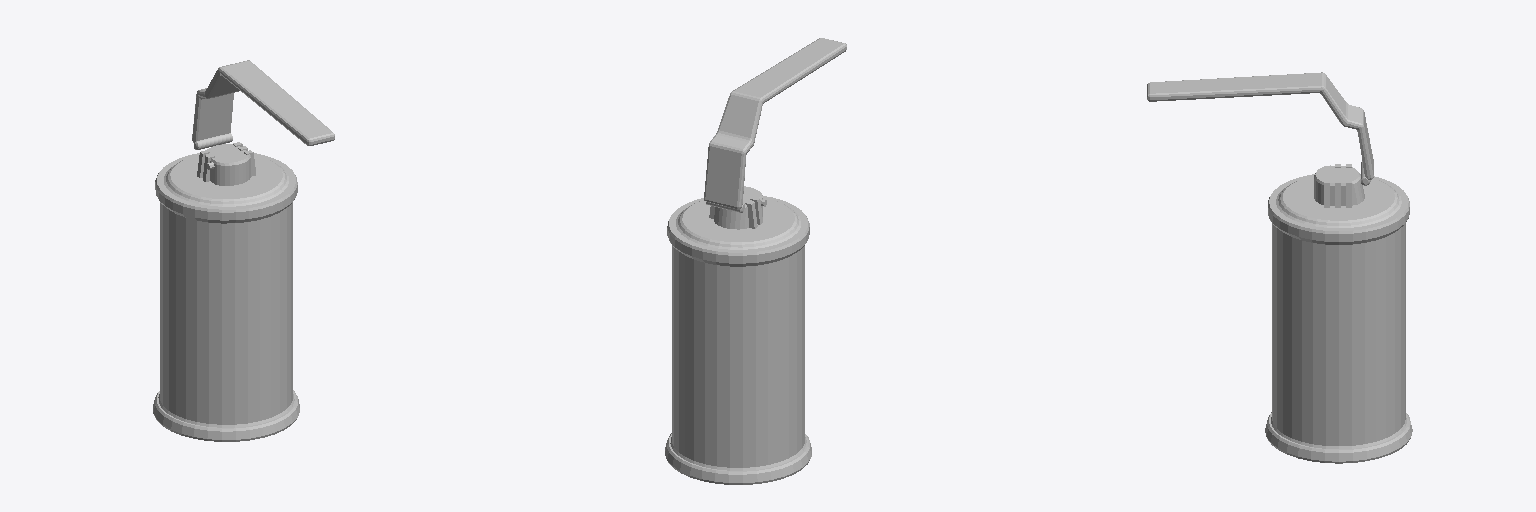
File: Grenade.obj
3 renders of one model, left to right at view 1: azimuth 30°, elevation 25°; view 2: azimuth 150°, elevation 25°; view 3: azimuth 270°, elevation 25°, orthographic.
Visible parts, largest first — view 1: Grenade_Cylinder.004; view 2: Grenade_Cylinder.004; view 3: Grenade_Cylinder.004.
Boxes of the visible parts, <box> form: Grenade_Cylinder.004: <box>153,60,334,441</box>; Grenade_Cylinder.004: <box>665,38,846,484</box>; Grenade_Cylinder.004: <box>1147,72,1412,463</box>.
Bounding box in the file's own units: 1.1 × 2.91 × 1.98.